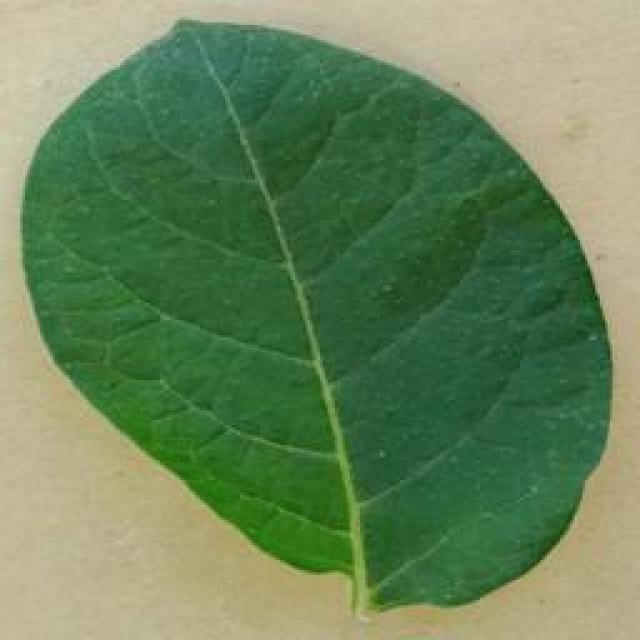Potato_Healthy: (19, 21, 602, 621)
